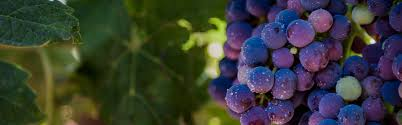Black grapes: (223, 5, 393, 125)
